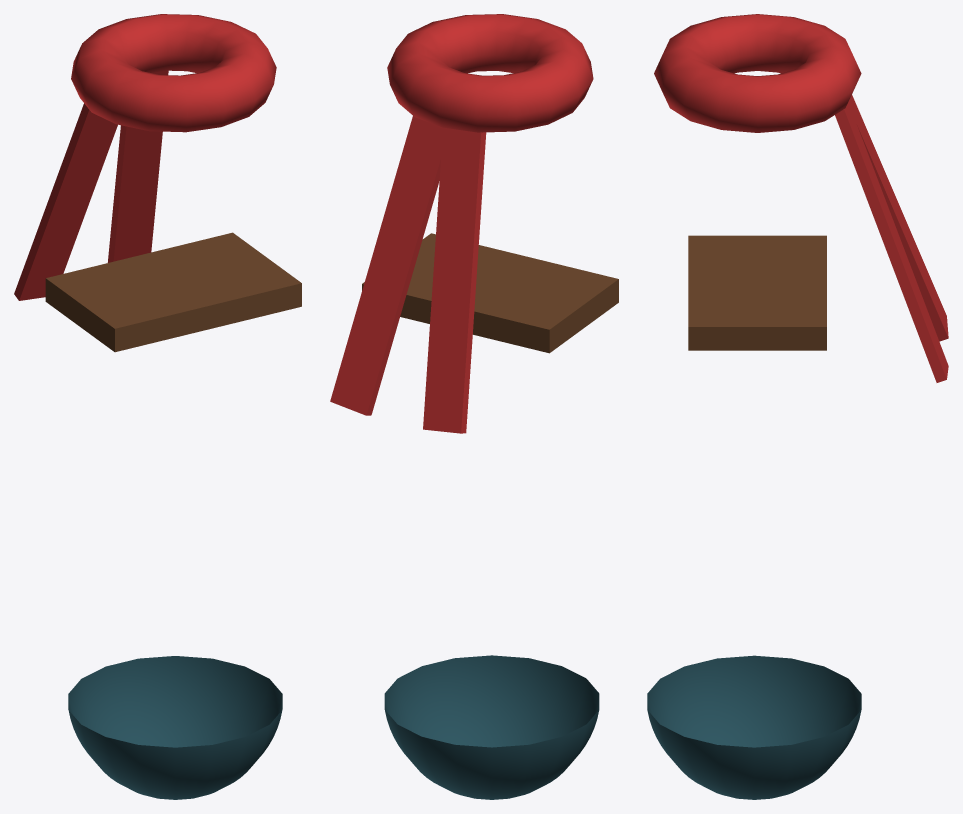
File: armor_look2.glb
3 views of the same model, side by side, from view 1: azimuth 30°, elevation 25°; view 2: azimuth 150°, elevation 25°; view 3: azimuth 270°, elevation 25° (orthographic).
Parts seen in each view (by area): view 1: m4_ow85_, m0_ow85_, m3_ow85_, m1_ow85_, m2_ow85_; view 2: m4_ow85_, m0_ow85_, m1_ow85_, m2_ow85_, m3_ow85_; view 3: m4_ow85_, m0_ow85_, m3_ow85_, m2_ow85_, m1_ow85_.
Boxes of the visible parts, bbox=[...] form: m4_ow85_: bbox=[68, 656, 282, 799]; m0_ow85_: bbox=[71, 14, 276, 132]; m3_ow85_: bbox=[45, 232, 301, 352]; m1_ow85_: bbox=[14, 103, 117, 300]; m2_ow85_: bbox=[107, 70, 168, 262]; m4_ow85_: bbox=[384, 655, 599, 799]; m0_ow85_: bbox=[387, 14, 593, 132]; m1_ow85_: bbox=[423, 127, 486, 433]; m2_ow85_: bbox=[330, 115, 448, 415]; m3_ow85_: bbox=[362, 233, 618, 353]; m4_ow85_: bbox=[647, 655, 861, 799]; m0_ow85_: bbox=[654, 14, 861, 132]; m3_ow85_: bbox=[688, 235, 826, 350]; m2_ow85_: bbox=[835, 103, 948, 382]; m1_ow85_: bbox=[848, 95, 948, 341].
Size of the model in its own units: 0.5029 by 1.87 by 0.6967.
